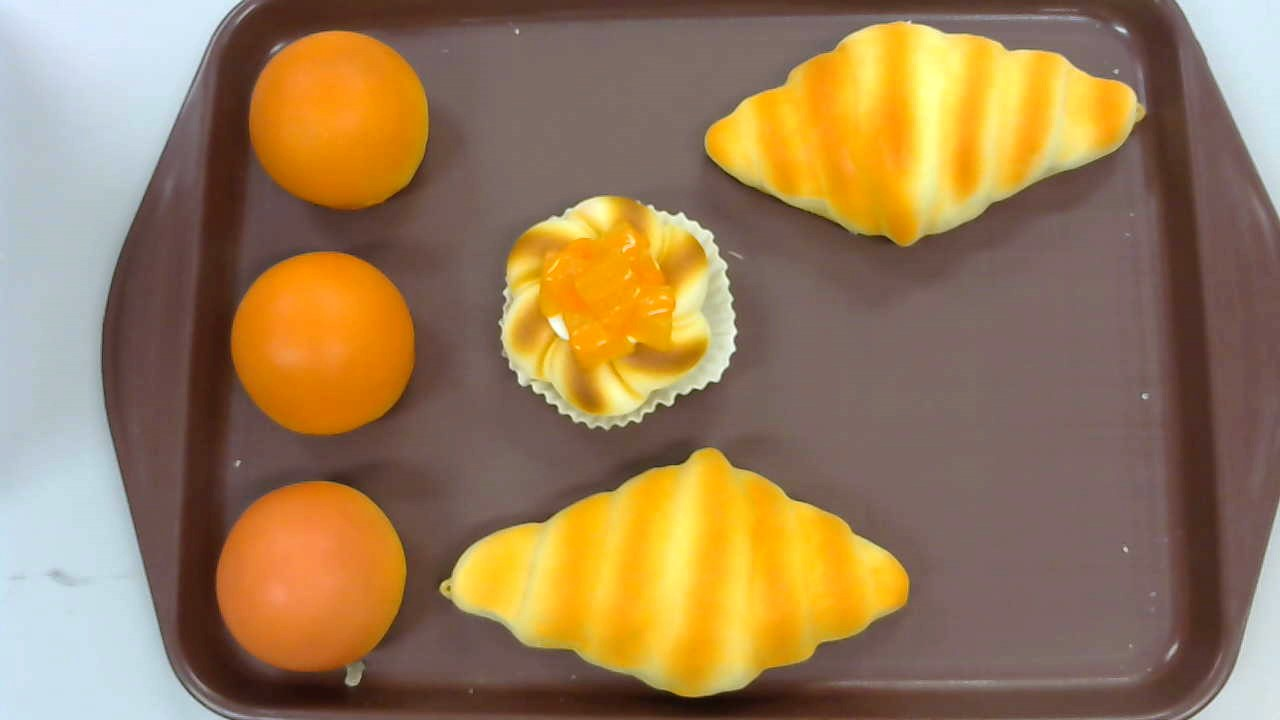bun: (216, 480, 405, 674), (229, 250, 415, 436), (247, 31, 428, 210)
croissant: (440, 447, 911, 700), (703, 20, 1145, 247)
mango tart: (497, 194, 738, 431)
